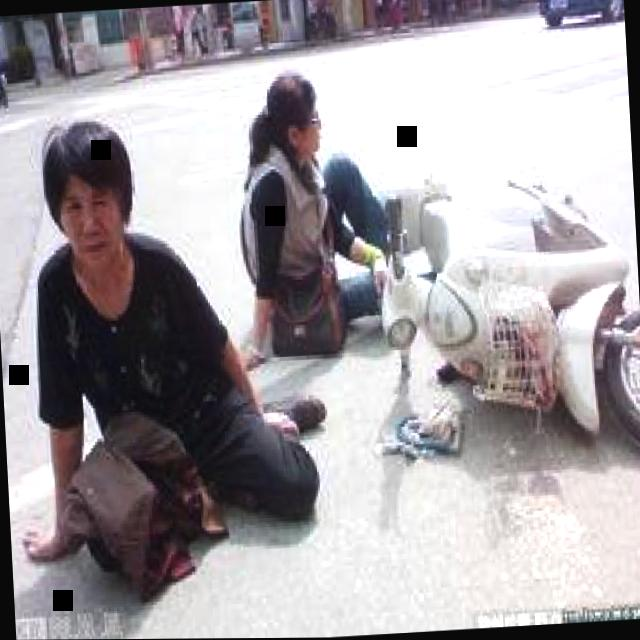Fall-Detected: (6, 77, 350, 563)
